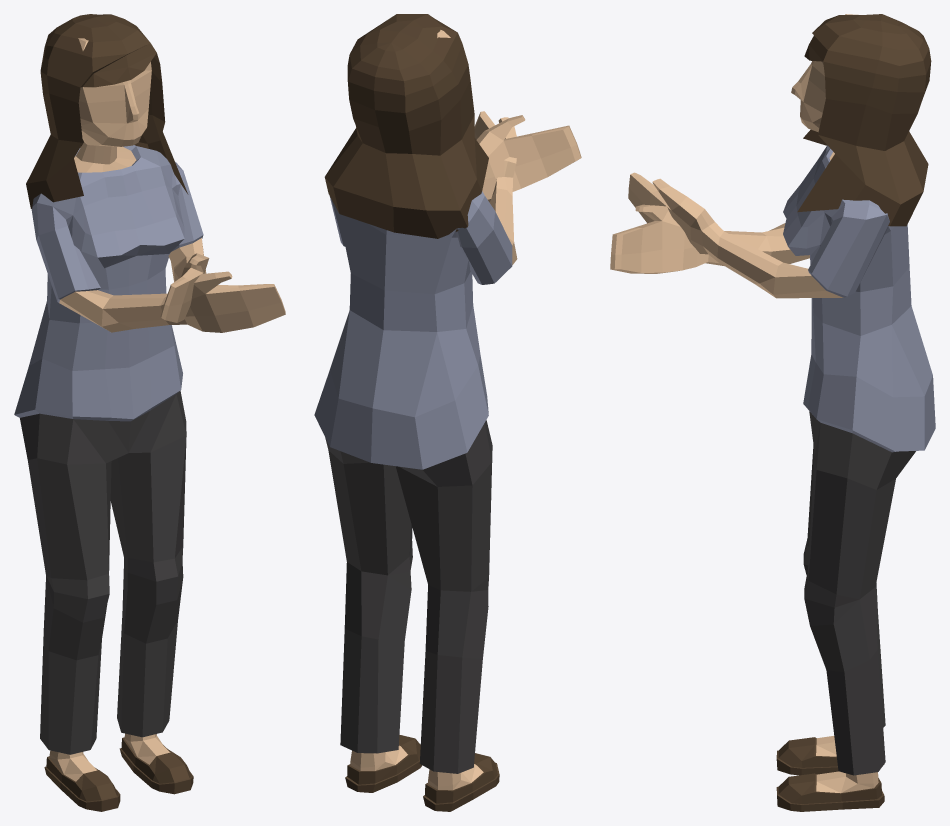
File: Female_Crowd_Clapping.glb
The picture shows the model from 3 angles, left to right: view 1: azimuth 30°, elevation 25°; view 2: azimuth 150°, elevation 25°; view 3: azimuth 270°, elevation 25°; orthographic projection. The views are drawn at different scales.
Parts seen in each view (by area): view 1: Female_Crowd_Clapping; view 2: Female_Crowd_Clapping; view 3: Female_Crowd_Clapping.
Part boxes in pixels (bbox=[...]): Female_Crowd_Clapping: bbox=[14, 14, 285, 811]; Female_Crowd_Clapping: bbox=[314, 14, 581, 811]; Female_Crowd_Clapping: bbox=[610, 14, 935, 811].
Bounding box in the file's own units: 0.3596 × 1.66 × 0.642.
